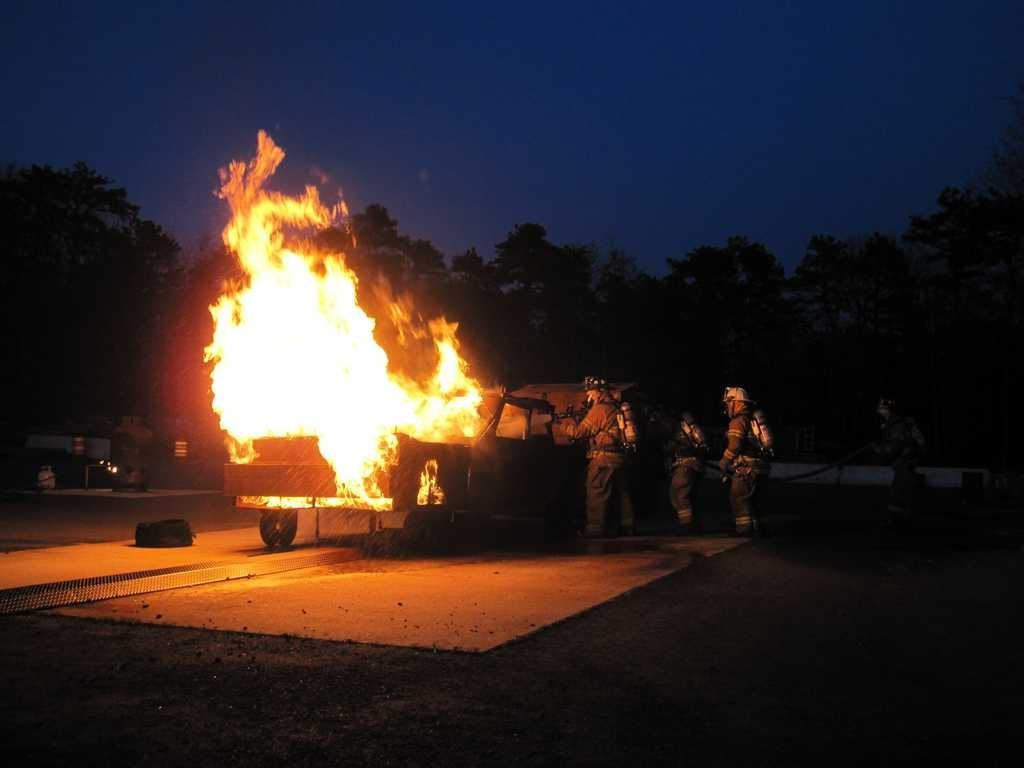fire: (248, 290, 358, 436)
